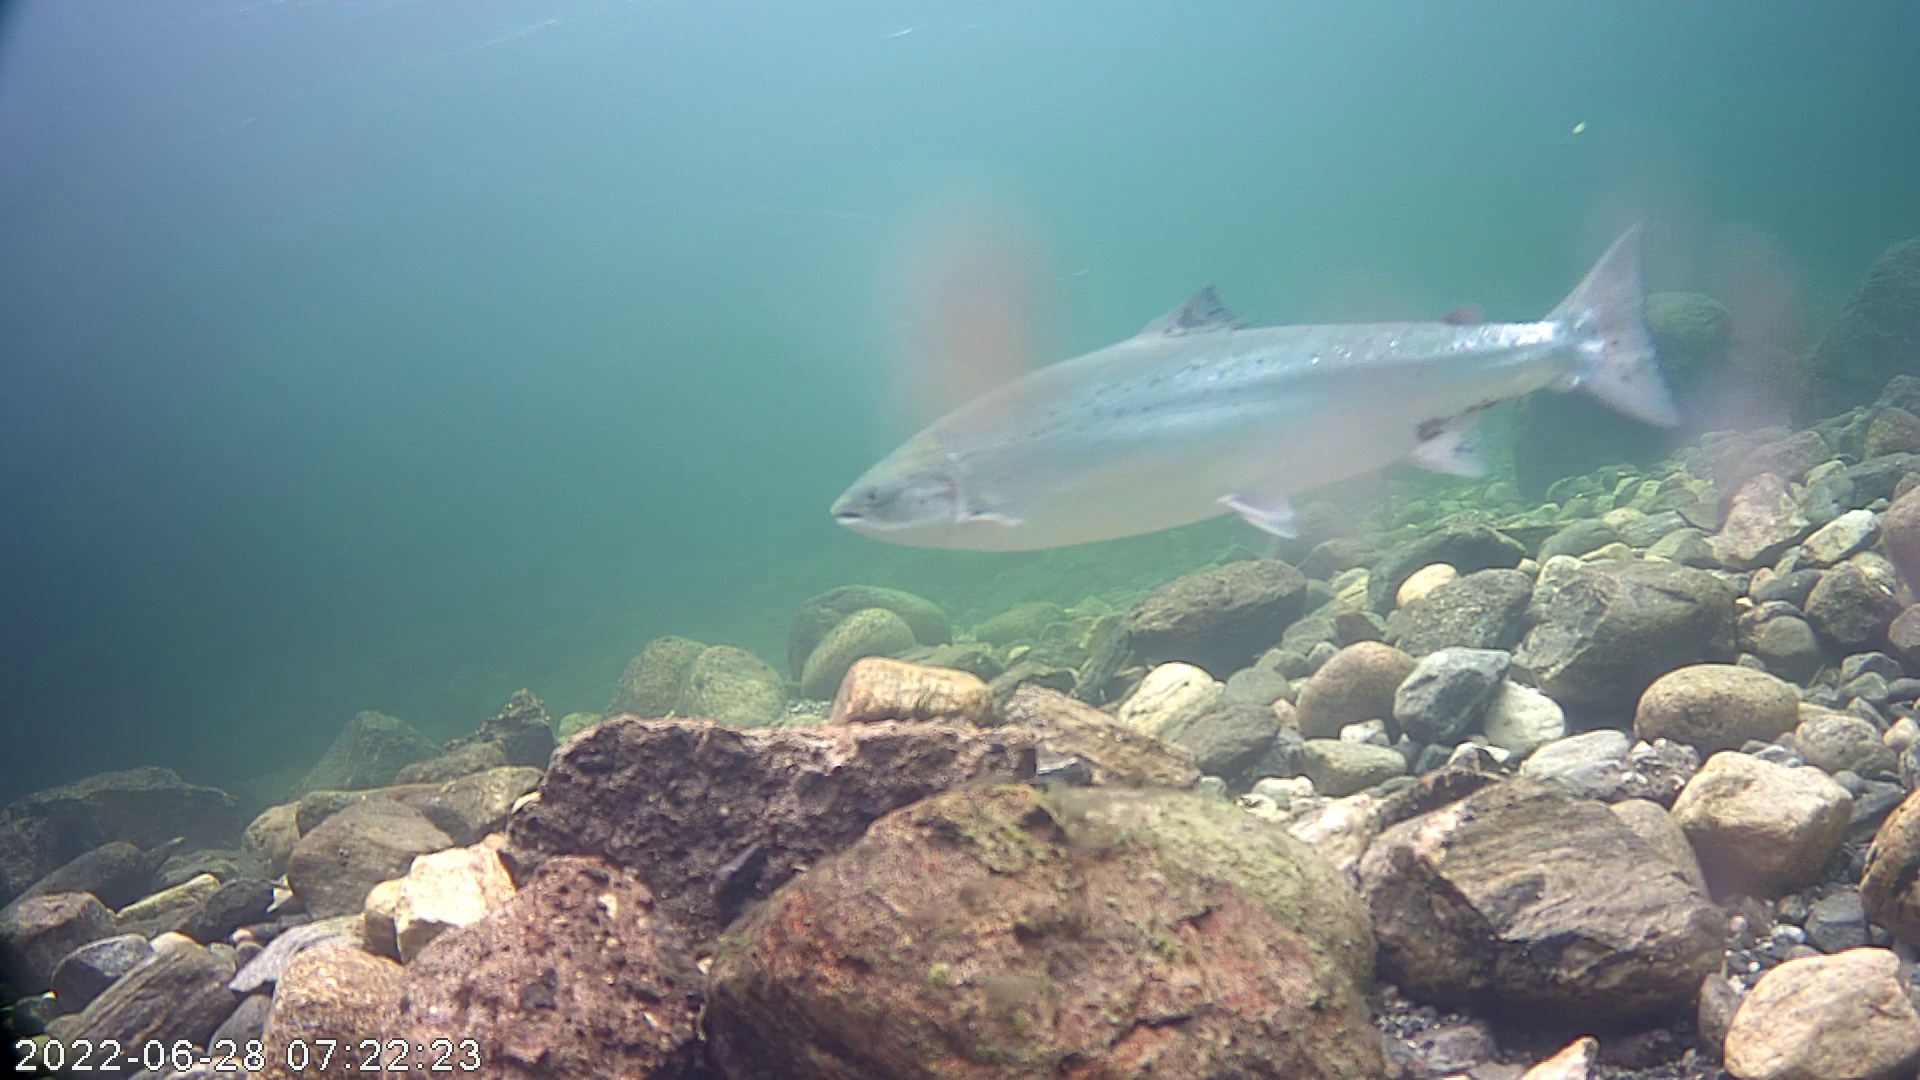salmon: (822, 179, 1700, 604)
